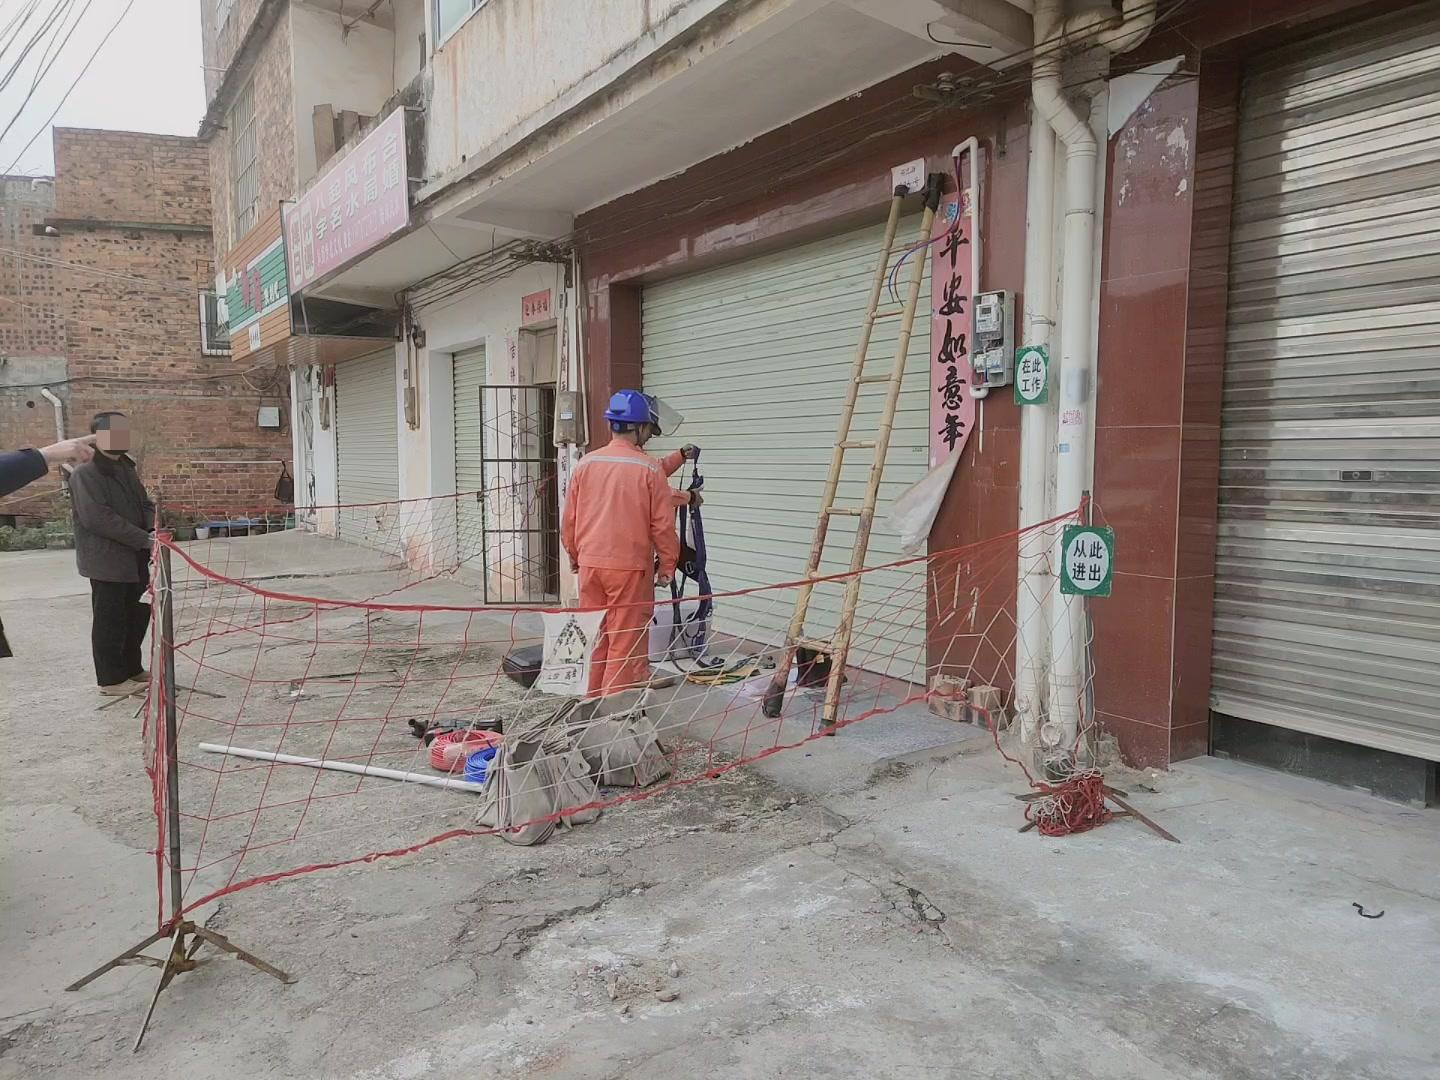halt: (605, 393, 661, 445)
unhalt: (90, 412, 136, 458)
